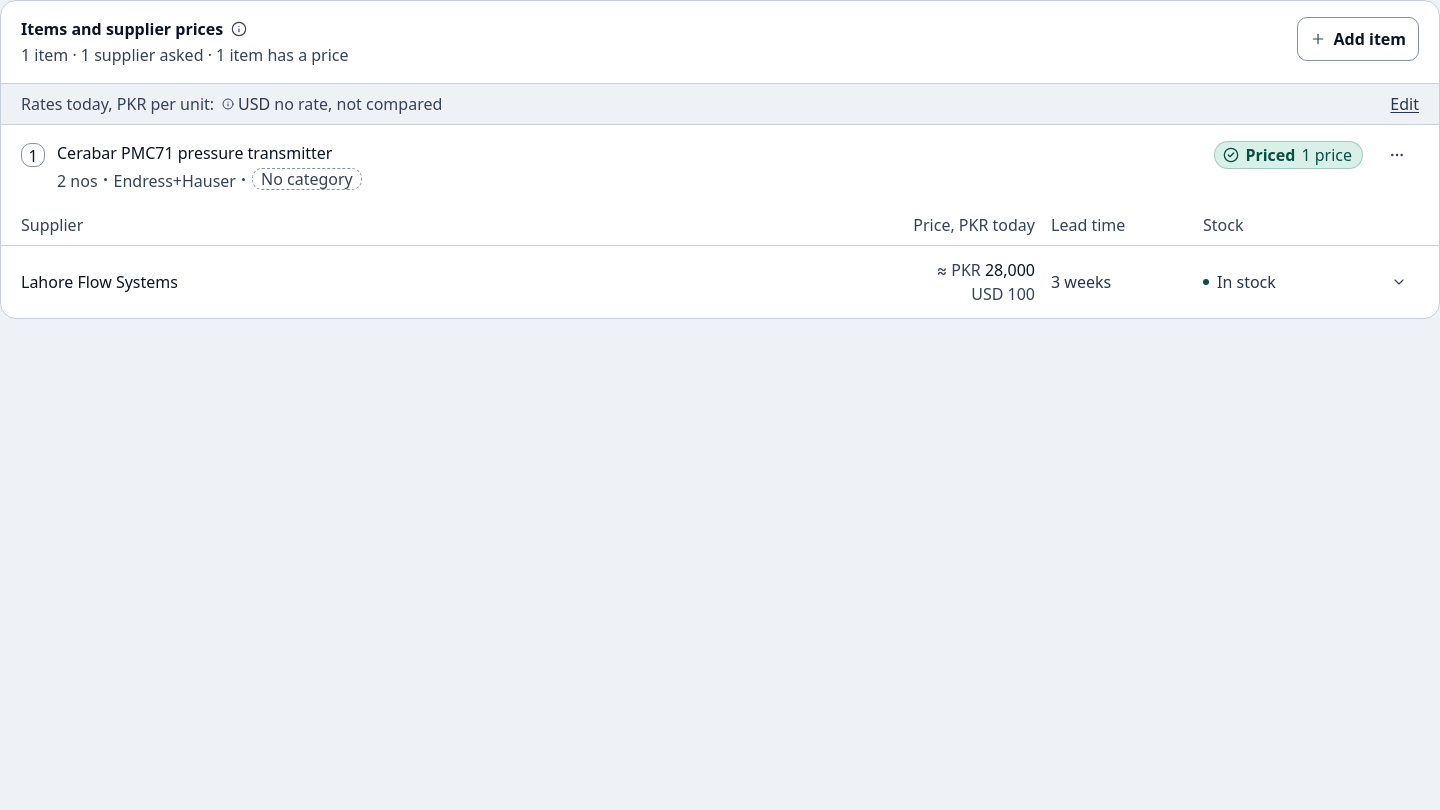
the supplier comparison › explains the order once, in a tip in the panel header
Expected: the heading "Items and supplier prices" is shown, left=21, top=17, right=223, bottom=41
Click the button named "How are prices compared?" at (239, 29), box left=227, top=17, right=251, bottom=41
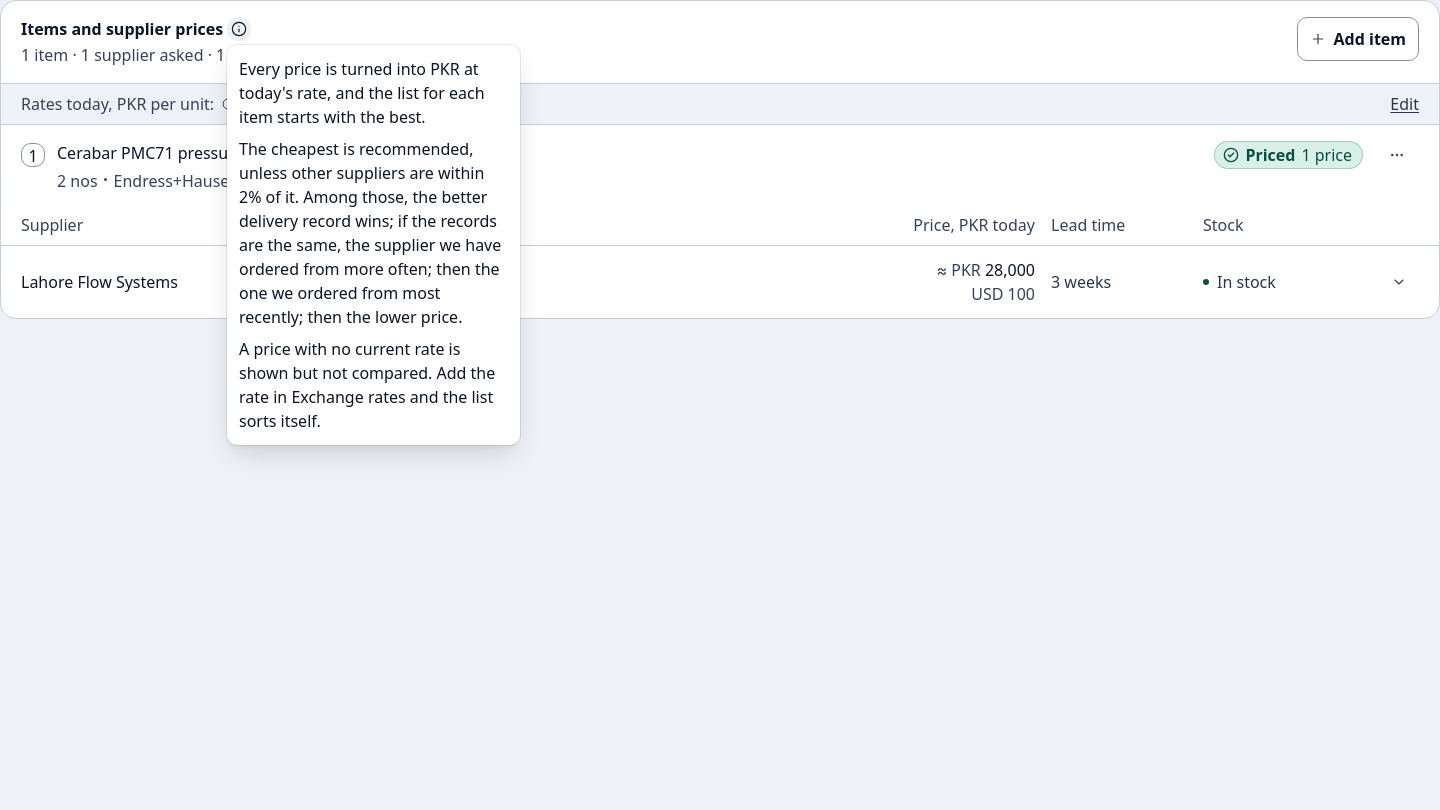
Result: the text "unless other suppliers are within 2% of it. Among those, the better delivery record wins; if the records are the same, " is shown at left=239, top=138, right=501, bottom=328
